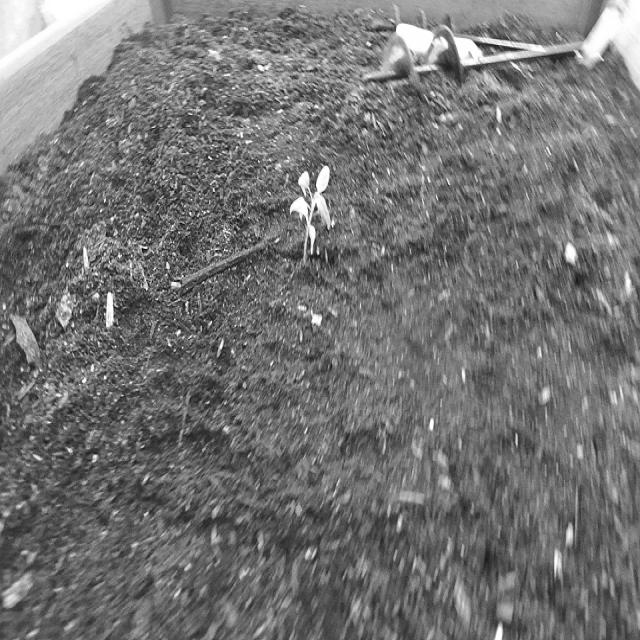Healthy: (282, 142, 339, 275)
